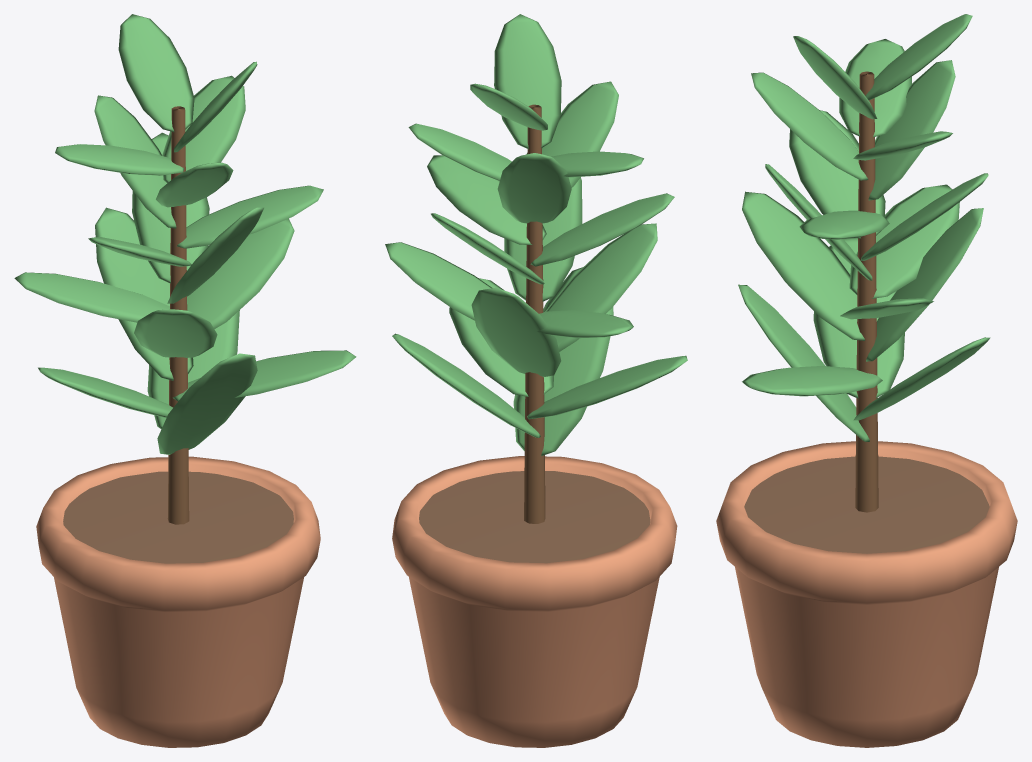
Rendered from prop_plant.glb.
3 views of the same model, side by side, from view 1: azimuth 30°, elevation 25°; view 2: azimuth 150°, elevation 25°; view 3: azimuth 270°, elevation 25° (orthographic). The views are drawn at different scales.
Parts seen in each view (by area): view 1: prop_plant; view 2: prop_plant; view 3: prop_plant.
Part boxes in pixels (x1,y1,x2,y2): prop_plant: (14, 14, 356, 747); prop_plant: (385, 14, 687, 747); prop_plant: (716, 14, 1017, 747).
Bounding box in the file's own units: 0.5682 × 1.32 × 0.5125.
